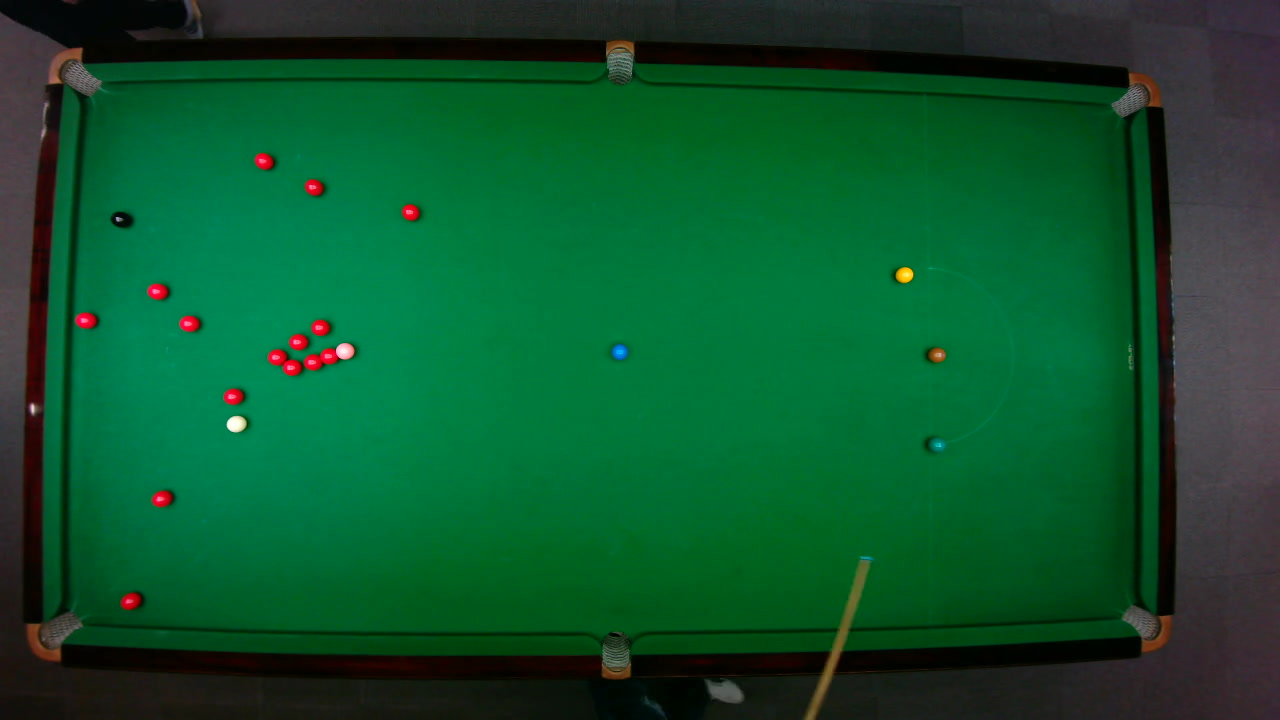bag: (24, 609, 84, 661), (46, 47, 102, 96), (1119, 603, 1172, 652), (1108, 71, 1161, 118), (600, 630, 630, 680), (605, 38, 633, 85)
black: (109, 210, 130, 228)
blue: (610, 342, 628, 360)
brown: (926, 346, 946, 362)
cue: (803, 553, 876, 720)
green: (926, 435, 946, 452)
pink: (334, 341, 355, 360)
red: (118, 590, 142, 610), (149, 488, 173, 507), (221, 386, 244, 405), (145, 281, 168, 300), (73, 310, 97, 328), (177, 314, 200, 332), (303, 177, 324, 196), (302, 352, 324, 370), (400, 202, 420, 221), (287, 332, 308, 350), (281, 358, 302, 376), (319, 346, 338, 365), (253, 151, 273, 169), (309, 318, 330, 335), (266, 348, 287, 365)
white: (224, 413, 247, 433)
yellow: (893, 265, 914, 283)
zone: (926, 265, 1013, 445)
